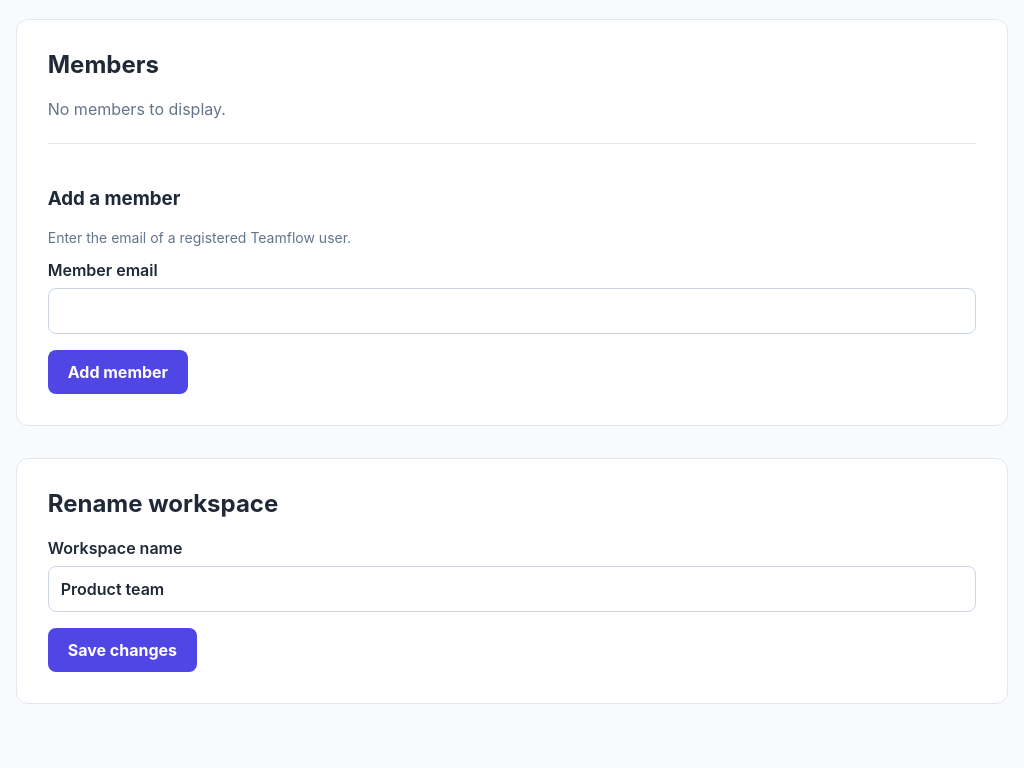
WorkspaceDetailsPage › lets an owner rename the workspace while preserving their role
This screenshot has width=1024, height=768.
(page scrolled)
Replace the text in the field labelled "Workspace name" with "  Platform team  " at {"x": 512, "y": 589}, box [48, 566, 976, 612]
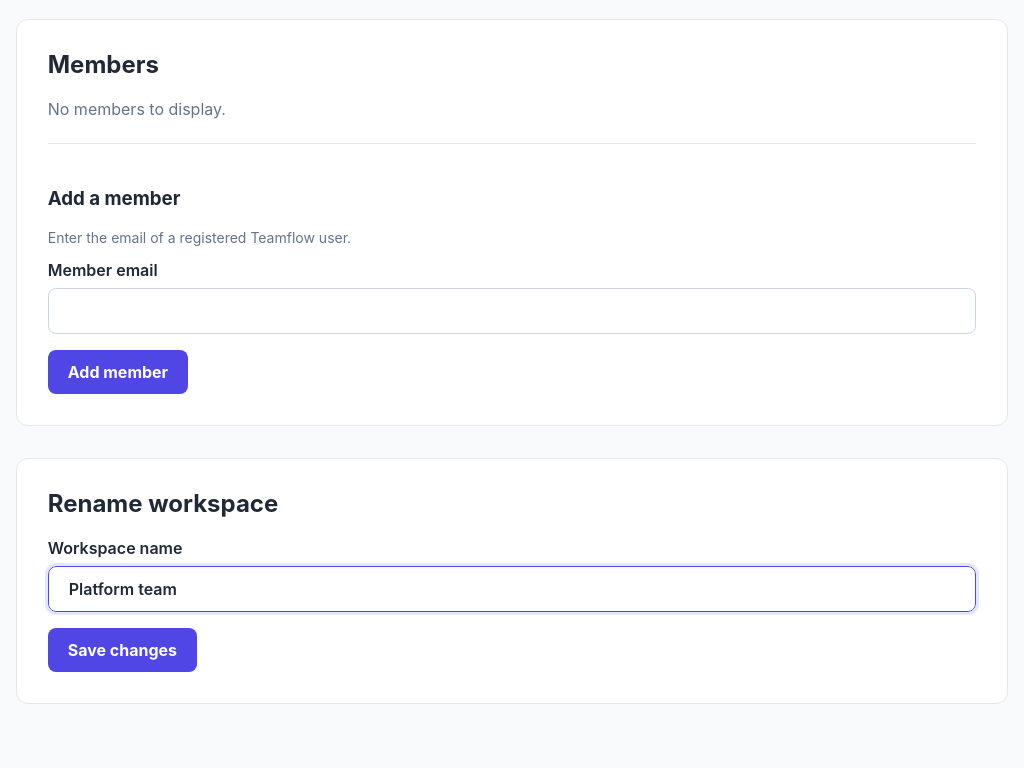
Click the button "Save changes" at {"x": 122, "y": 650}, box [48, 628, 197, 672]
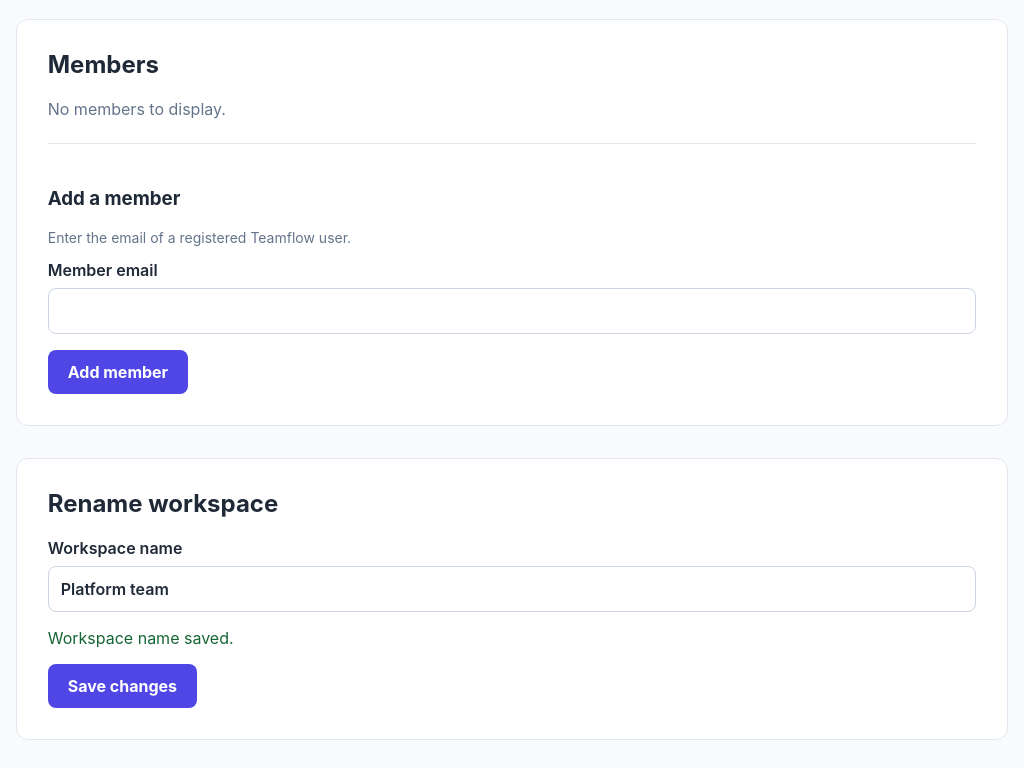
Now the message reads "Workspace name saved.", box [48, 628, 234, 648]
